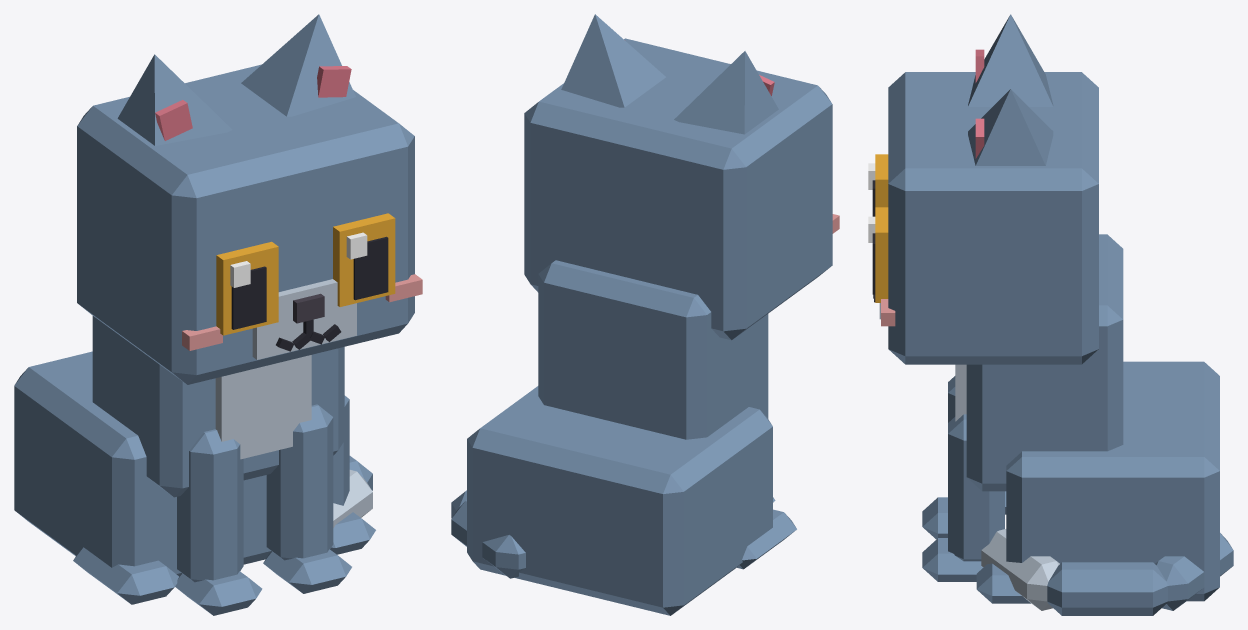
Rendered from CatCafe_Cat_Puddle_Sit.glb.
The picture shows the model from 3 angles, left to right: view 1: azimuth 30°, elevation 25°; view 2: azimuth 150°, elevation 25°; view 3: azimuth 270°, elevation 25°; orthographic projection. The views are drawn at different scales.
Parts seen in each view (by area): view 1: CatCafe_Cat_Puddle_Sit_Head, CatCafe_Cat_Puddle_Sit_Body, CatCafe_Cat_Puddle_Sit_LegF2, CatCafe_Cat_Puddle_Sit_LegF1, CatCafe_Cat_Puddle_Sit_EarL, CatCafe_Cat_Puddle_Sit_EarR, CatCafe_Cat_Puddle_Sit_Eye2, CatCafe_Cat_Puddle_Sit_Eye1, CatCafe_Cat_Puddle_Sit_Tail; view 2: CatCafe_Cat_Puddle_Sit_Body, CatCafe_Cat_Puddle_Sit_Head, CatCafe_Cat_Puddle_Sit_EarL, CatCafe_Cat_Puddle_Sit_EarR, CatCafe_Cat_Puddle_Sit_Tail; view 3: CatCafe_Cat_Puddle_Sit_Head, CatCafe_Cat_Puddle_Sit_Body, CatCafe_Cat_Puddle_Sit_Tail, CatCafe_Cat_Puddle_Sit_LegF1, CatCafe_Cat_Puddle_Sit_EarL, CatCafe_Cat_Puddle_Sit_EarR, CatCafe_Cat_Puddle_Sit_Eye1, CatCafe_Cat_Puddle_Sit_LegF2, CatCafe_Cat_Puddle_Sit_Eye2.
Part boxes in pixels (x1=…): CatCafe_Cat_Puddle_Sit_Head: x1=77, y1=64, x2=422, y2=384; CatCafe_Cat_Puddle_Sit_Body: x1=14, y1=316, x2=375, y2=604; CatCafe_Cat_Puddle_Sit_LegF2: x1=175, y1=429, x2=262, y2=615; CatCafe_Cat_Puddle_Sit_LegF1: x1=263, y1=404, x2=351, y2=593; CatCafe_Cat_Puddle_Sit_EarL: x1=241, y1=14, x2=355, y2=116; CatCafe_Cat_Puddle_Sit_EarR: x1=117, y1=54, x2=232, y2=145; CatCafe_Cat_Puddle_Sit_Eye2: x1=216, y1=241, x2=278, y2=335; CatCafe_Cat_Puddle_Sit_Eye1: x1=333, y1=213, x2=395, y2=306; CatCafe_Cat_Puddle_Sit_Tail: x1=333, y1=456, x2=372, y2=527; CatCafe_Cat_Puddle_Sit_Body: x1=467, y1=260, x2=796, y2=615; CatCafe_Cat_Puddle_Sit_Head: x1=524, y1=38, x2=839, y2=340; CatCafe_Cat_Puddle_Sit_EarL: x1=561, y1=14, x2=665, y2=107; CatCafe_Cat_Puddle_Sit_EarR: x1=674, y1=51, x2=778, y2=134; CatCafe_Cat_Puddle_Sit_Tail: x1=451, y1=490, x2=525, y2=578; CatCafe_Cat_Puddle_Sit_Head: x1=873, y1=72, x2=1098, y2=364; CatCafe_Cat_Puddle_Sit_Body: x1=955, y1=234, x2=1219, y2=603; CatCafe_Cat_Puddle_Sit_Tail: x1=981, y1=529, x2=1233, y2=615; CatCafe_Cat_Puddle_Sit_LegF1: x1=922, y1=414, x2=1004, y2=581; CatCafe_Cat_Puddle_Sit_EarL: x1=968, y1=89, x2=1053, y2=165; CatCafe_Cat_Puddle_Sit_EarR: x1=968, y1=14, x2=1053, y2=106; CatCafe_Cat_Puddle_Sit_Eye1: x1=868, y1=207, x2=888, y2=302; CatCafe_Cat_Puddle_Sit_LegF2: x1=922, y1=376, x2=955, y2=539; CatCafe_Cat_Puddle_Sit_Eye2: x1=868, y1=154, x2=888, y2=216.
Size of the model in its own units: 1.05 by 1.85 by 1.22.
Materials: 1 (1 with a texture image).
